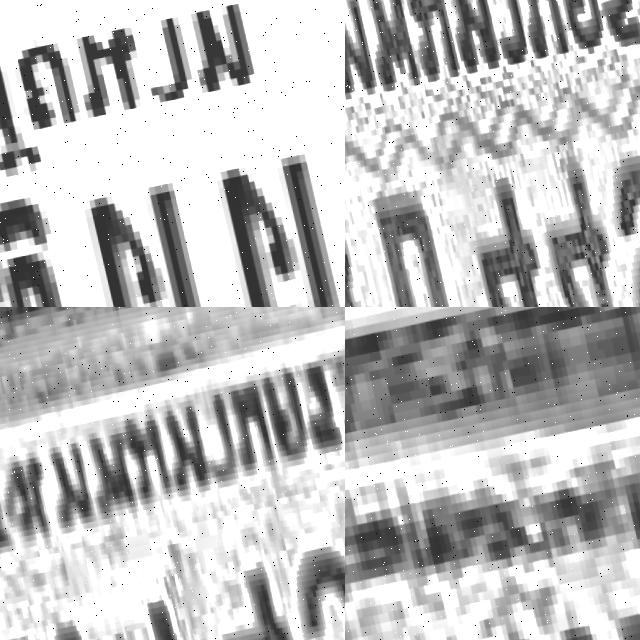license-plate: (0, 307, 345, 640), (0, 0, 345, 307), (345, 320, 640, 640), (345, 0, 640, 307)
